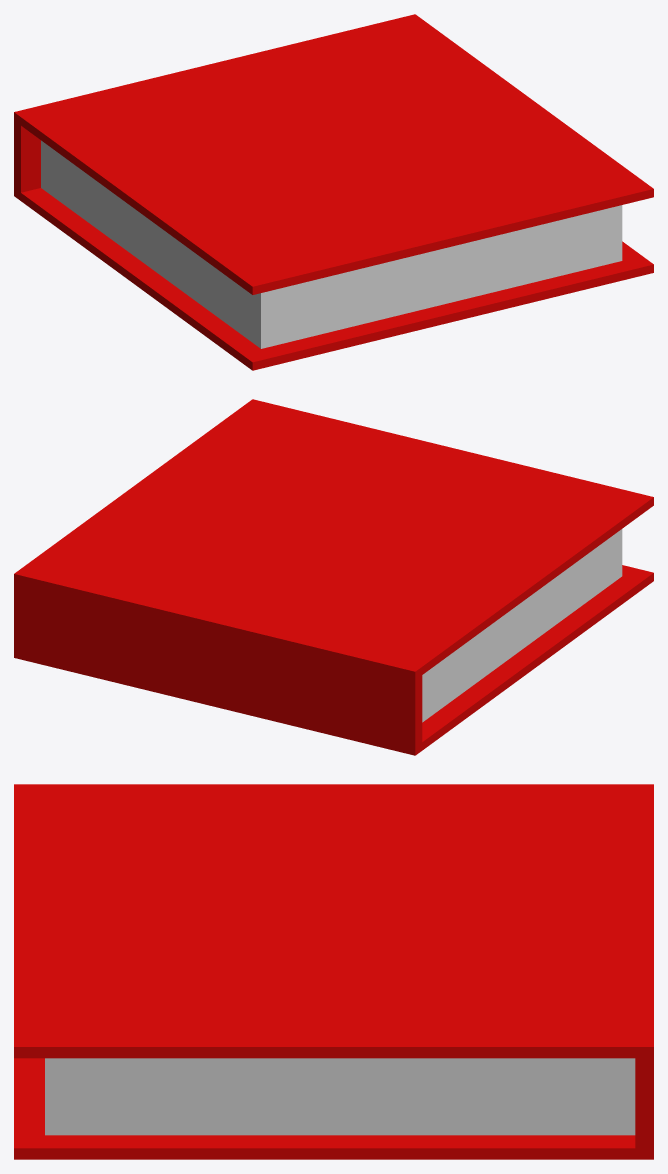
File: PDF.fbx
3 views of the same model, one above another, from view 1: azimuth 30°, elevation 25°; view 2: azimuth 150°, elevation 25°; view 3: azimuth 270°, elevation 25° (orthographic). The views are drawn at different scales.
Visible parts, largest first — view 1: PDFile; view 2: PDFile; view 3: PDFile.
Boxes of the visible parts, x1,y1,x2,y2 form: PDFile: [14, 14, 653, 370]; PDFile: [14, 399, 653, 755]; PDFile: [14, 784, 653, 1159].
Size of the model in its own units: 100 by 20 by 103.
